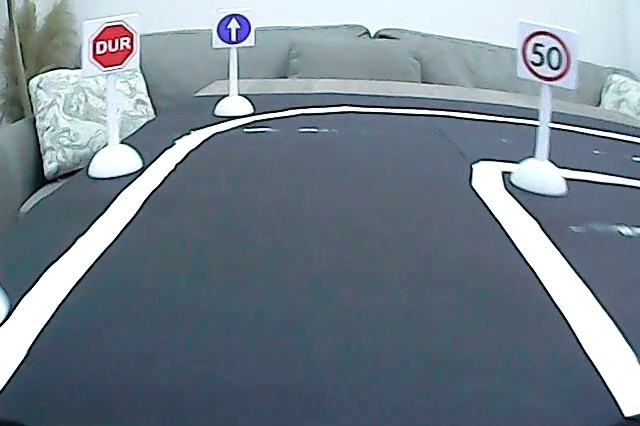speed limit 50: (521, 28, 571, 83)
stop sign: (89, 21, 138, 73)
